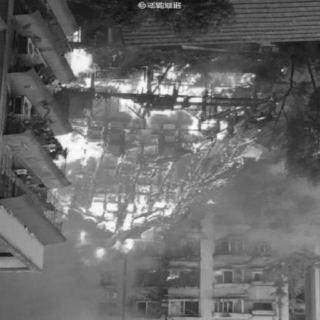Fire: (28, 42, 268, 279)
